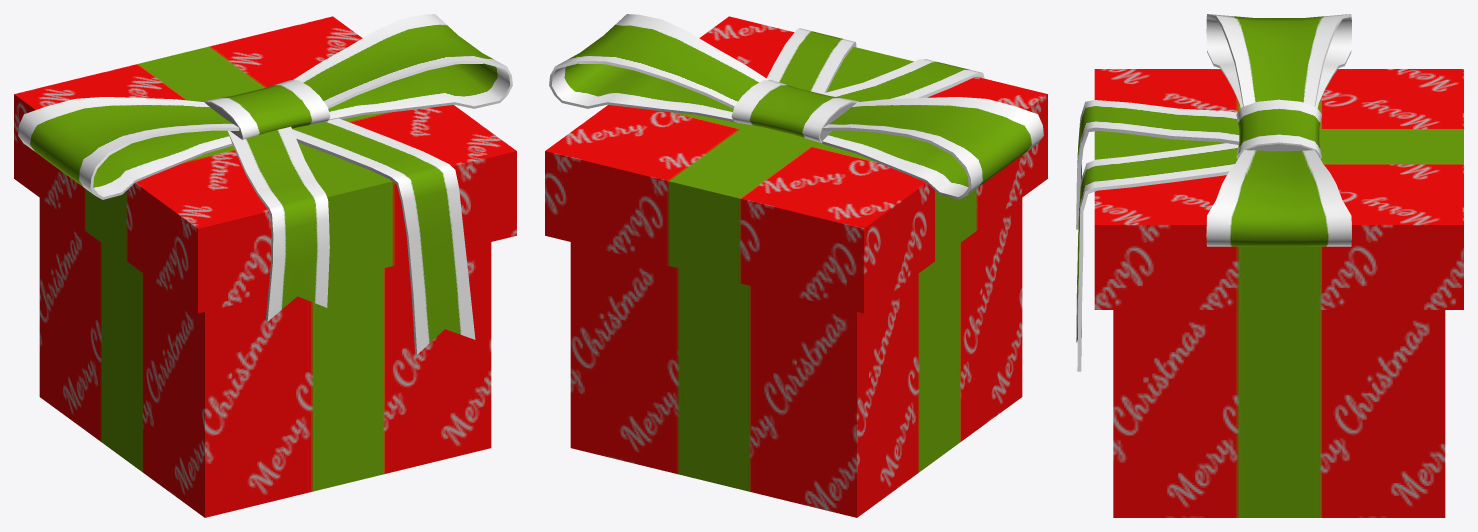
File: gift.glb
3 renders of one model, left to right at view 1: azimuth 30°, elevation 25°; view 2: azimuth 150°, elevation 25°; view 3: azimuth 270°, elevation 25°, orthographic.
Parts seen in each view (by area): view 1: Box_low, Bow2_low, Bow3_low, Bow1_low; view 2: Box_low, Bow2_low, Bow3_low, Bow1_low; view 3: Box_low, Bow2_low, Bow3_low, Bow1_low.
Part boxes in pixels (x1,y1,x2,y2): Box_low: (14, 16, 516, 517); Bow2_low: (18, 14, 512, 199); Bow3_low: (227, 118, 475, 354); Bow1_low: (203, 80, 330, 139); Box_low: (545, 16, 1047, 517); Bow2_low: (549, 14, 1043, 199); Bow3_low: (766, 28, 984, 101); Bow1_low: (731, 80, 858, 143); Box_low: (1094, 69, 1463, 517); Bow2_low: (1206, 14, 1351, 246); Bow3_low: (1076, 100, 1239, 371); Bow1_low: (1236, 99, 1321, 158).
Size of the model in its own units: 1.03 by 0.794 by 0.8124.
Materials: 1 (1 with a texture image).
